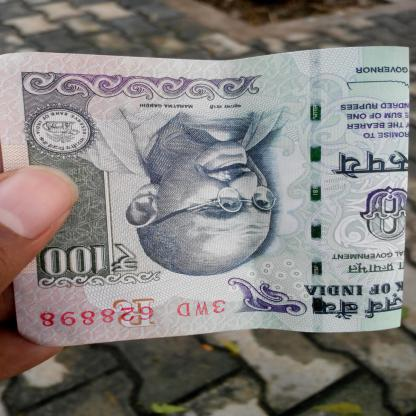Old100Front: (0, 44, 412, 348)
